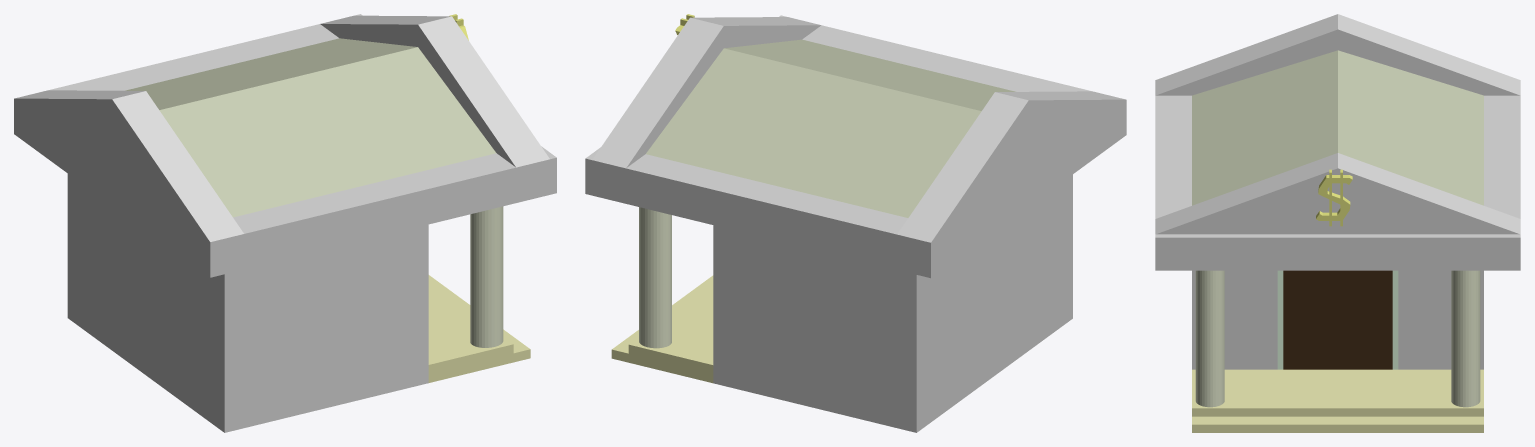
The model's file is bank.gltf.
3 renders of one model, left to right at view 1: azimuth 30°, elevation 25°; view 2: azimuth 150°, elevation 25°; view 3: azimuth 270°, elevation 25°, orthographic. The views are drawn at different scales.
Visible parts, largest first — view 1: Cube, Cube.001, Cube.002, Cylinder; view 2: Cube, Cube.001, Cube.002, Cylinder.001; view 3: Cube, Cube.001, Cube.002, Cube.003, Cylinder, Cylinder.001, Cube.004, Cube.005.
Part boxes in pixels (bbox=[...]): Cube: bbox=[14, 14, 556, 432]; Cube.001: bbox=[125, 38, 496, 217]; Cube.002: bbox=[428, 275, 530, 382]; Cylinder: bbox=[470, 206, 503, 347]; Cube: bbox=[585, 15, 1126, 432]; Cube.001: bbox=[646, 39, 1015, 217]; Cube.002: bbox=[611, 275, 713, 383]; Cylinder.001: bbox=[639, 207, 671, 348]; Cube: bbox=[1155, 14, 1520, 369]; Cube.001: bbox=[1192, 50, 1483, 205]; Cube.002: bbox=[1192, 369, 1483, 432]; Cube.003: bbox=[1283, 270, 1392, 369]; Cylinder: bbox=[1195, 270, 1224, 407]; Cylinder.001: bbox=[1451, 270, 1480, 407]; Cube.004: bbox=[1277, 270, 1398, 369]; Cube.005: bbox=[1316, 169, 1352, 226].
Size of the model in its own units: 10.2 by 8 by 10.
